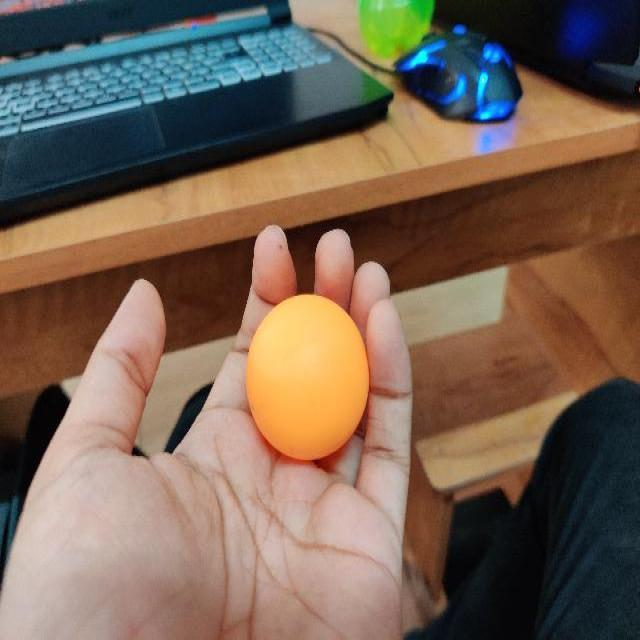oball: (245, 293, 371, 464)
